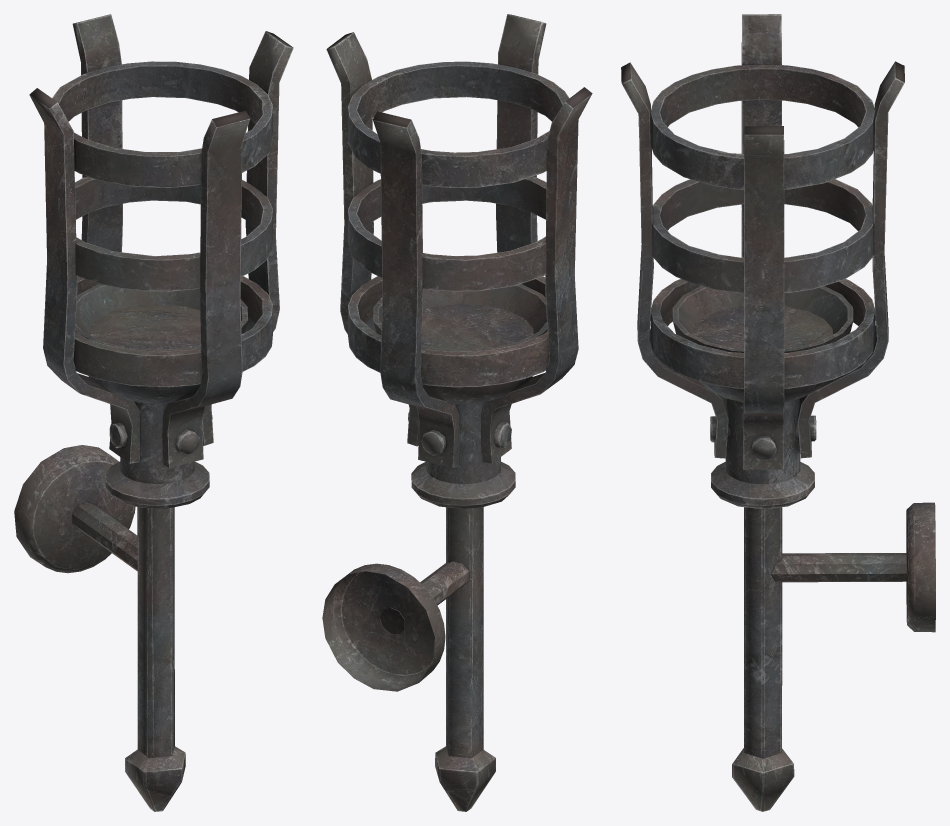
Rendered from shg_Torch_REF.glb.
3 views of the same model, side by side, from view 1: azimuth 30°, elevation 25°; view 2: azimuth 150°, elevation 25°; view 3: azimuth 270°, elevation 25° (orthographic).
Visible parts, largest first — view 1: shg Torch REF.008; view 2: shg Torch REF.008; view 3: shg Torch REF.008.
Boxes of the visible parts, left/top/right/bottom form: shg Torch REF.008: left=14, top=14, right=293, bottom=811; shg Torch REF.008: left=322, top=14, right=592, bottom=811; shg Torch REF.008: left=621, top=14, right=935, bottom=811.
Bounding box in the file's own units: 0.2494 × 0.7177 × 0.2764.
Materials: 1 (1 with a texture image).
